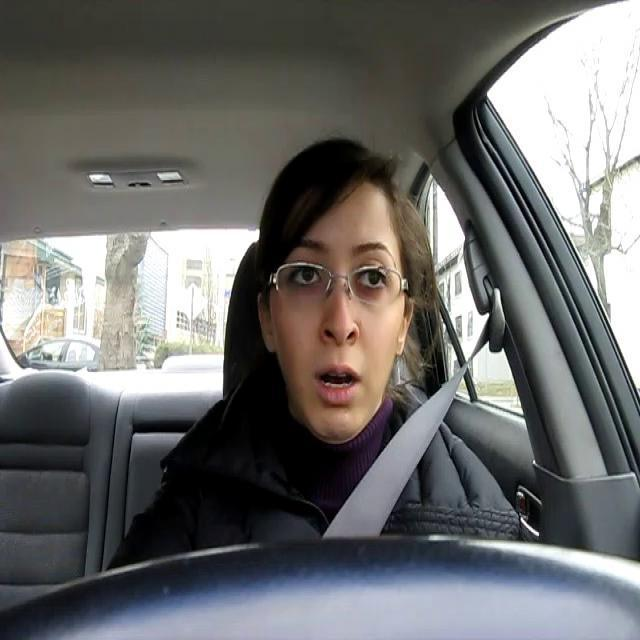open-mouth: (312, 358, 366, 408)
